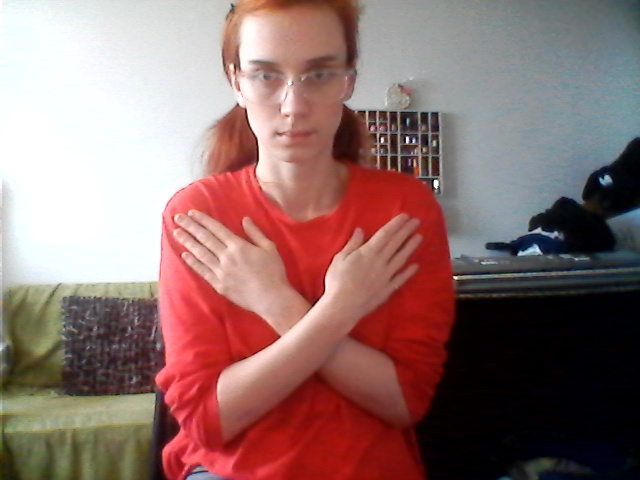z: (161, 199, 444, 440)
